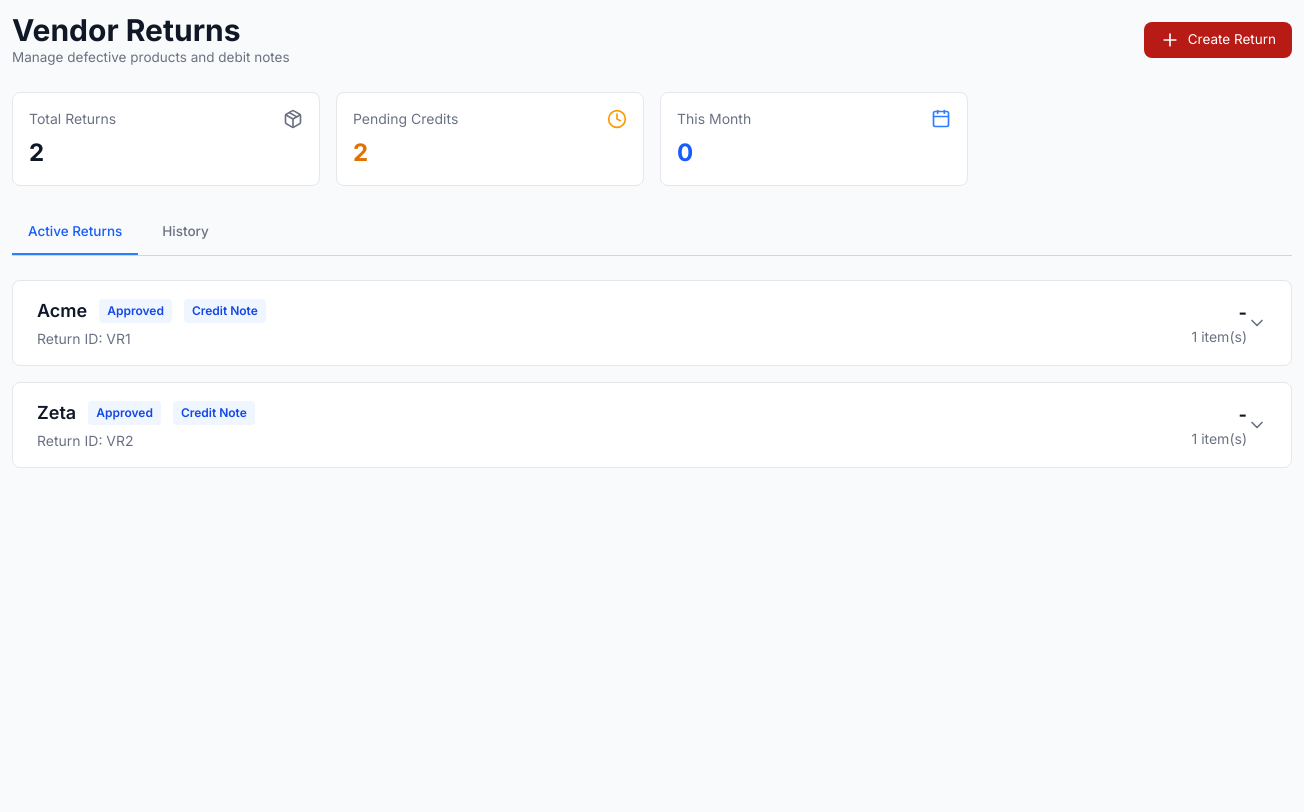
Scenario: the GST debit note on Vendor Returns › shows STORE_MANAGER the issued note without its money
Click the heading "Acme".
click(62, 311)  # box top-left (37, 297), bottom-right (87, 325)
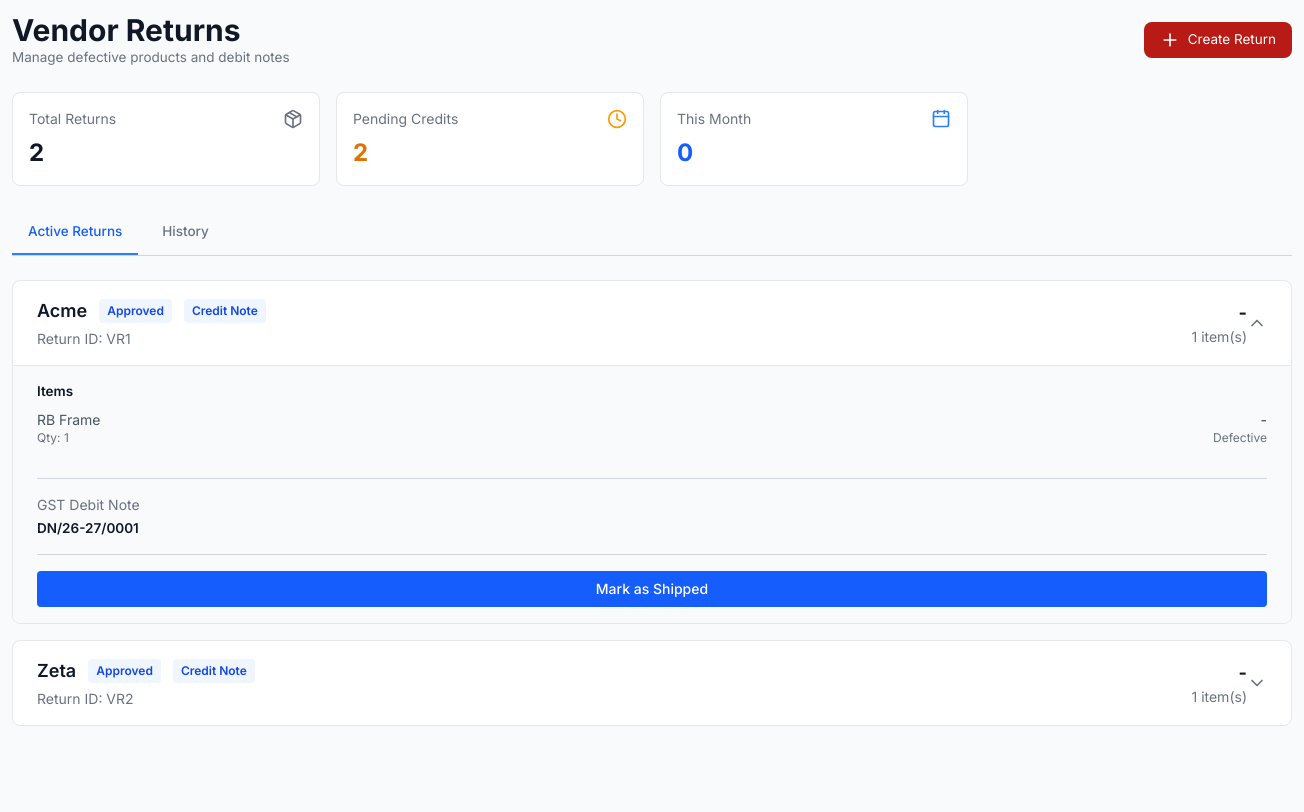
Check: the text "DN/26-27/0001" is shown, box top-left (37, 519), bottom-right (140, 538)
